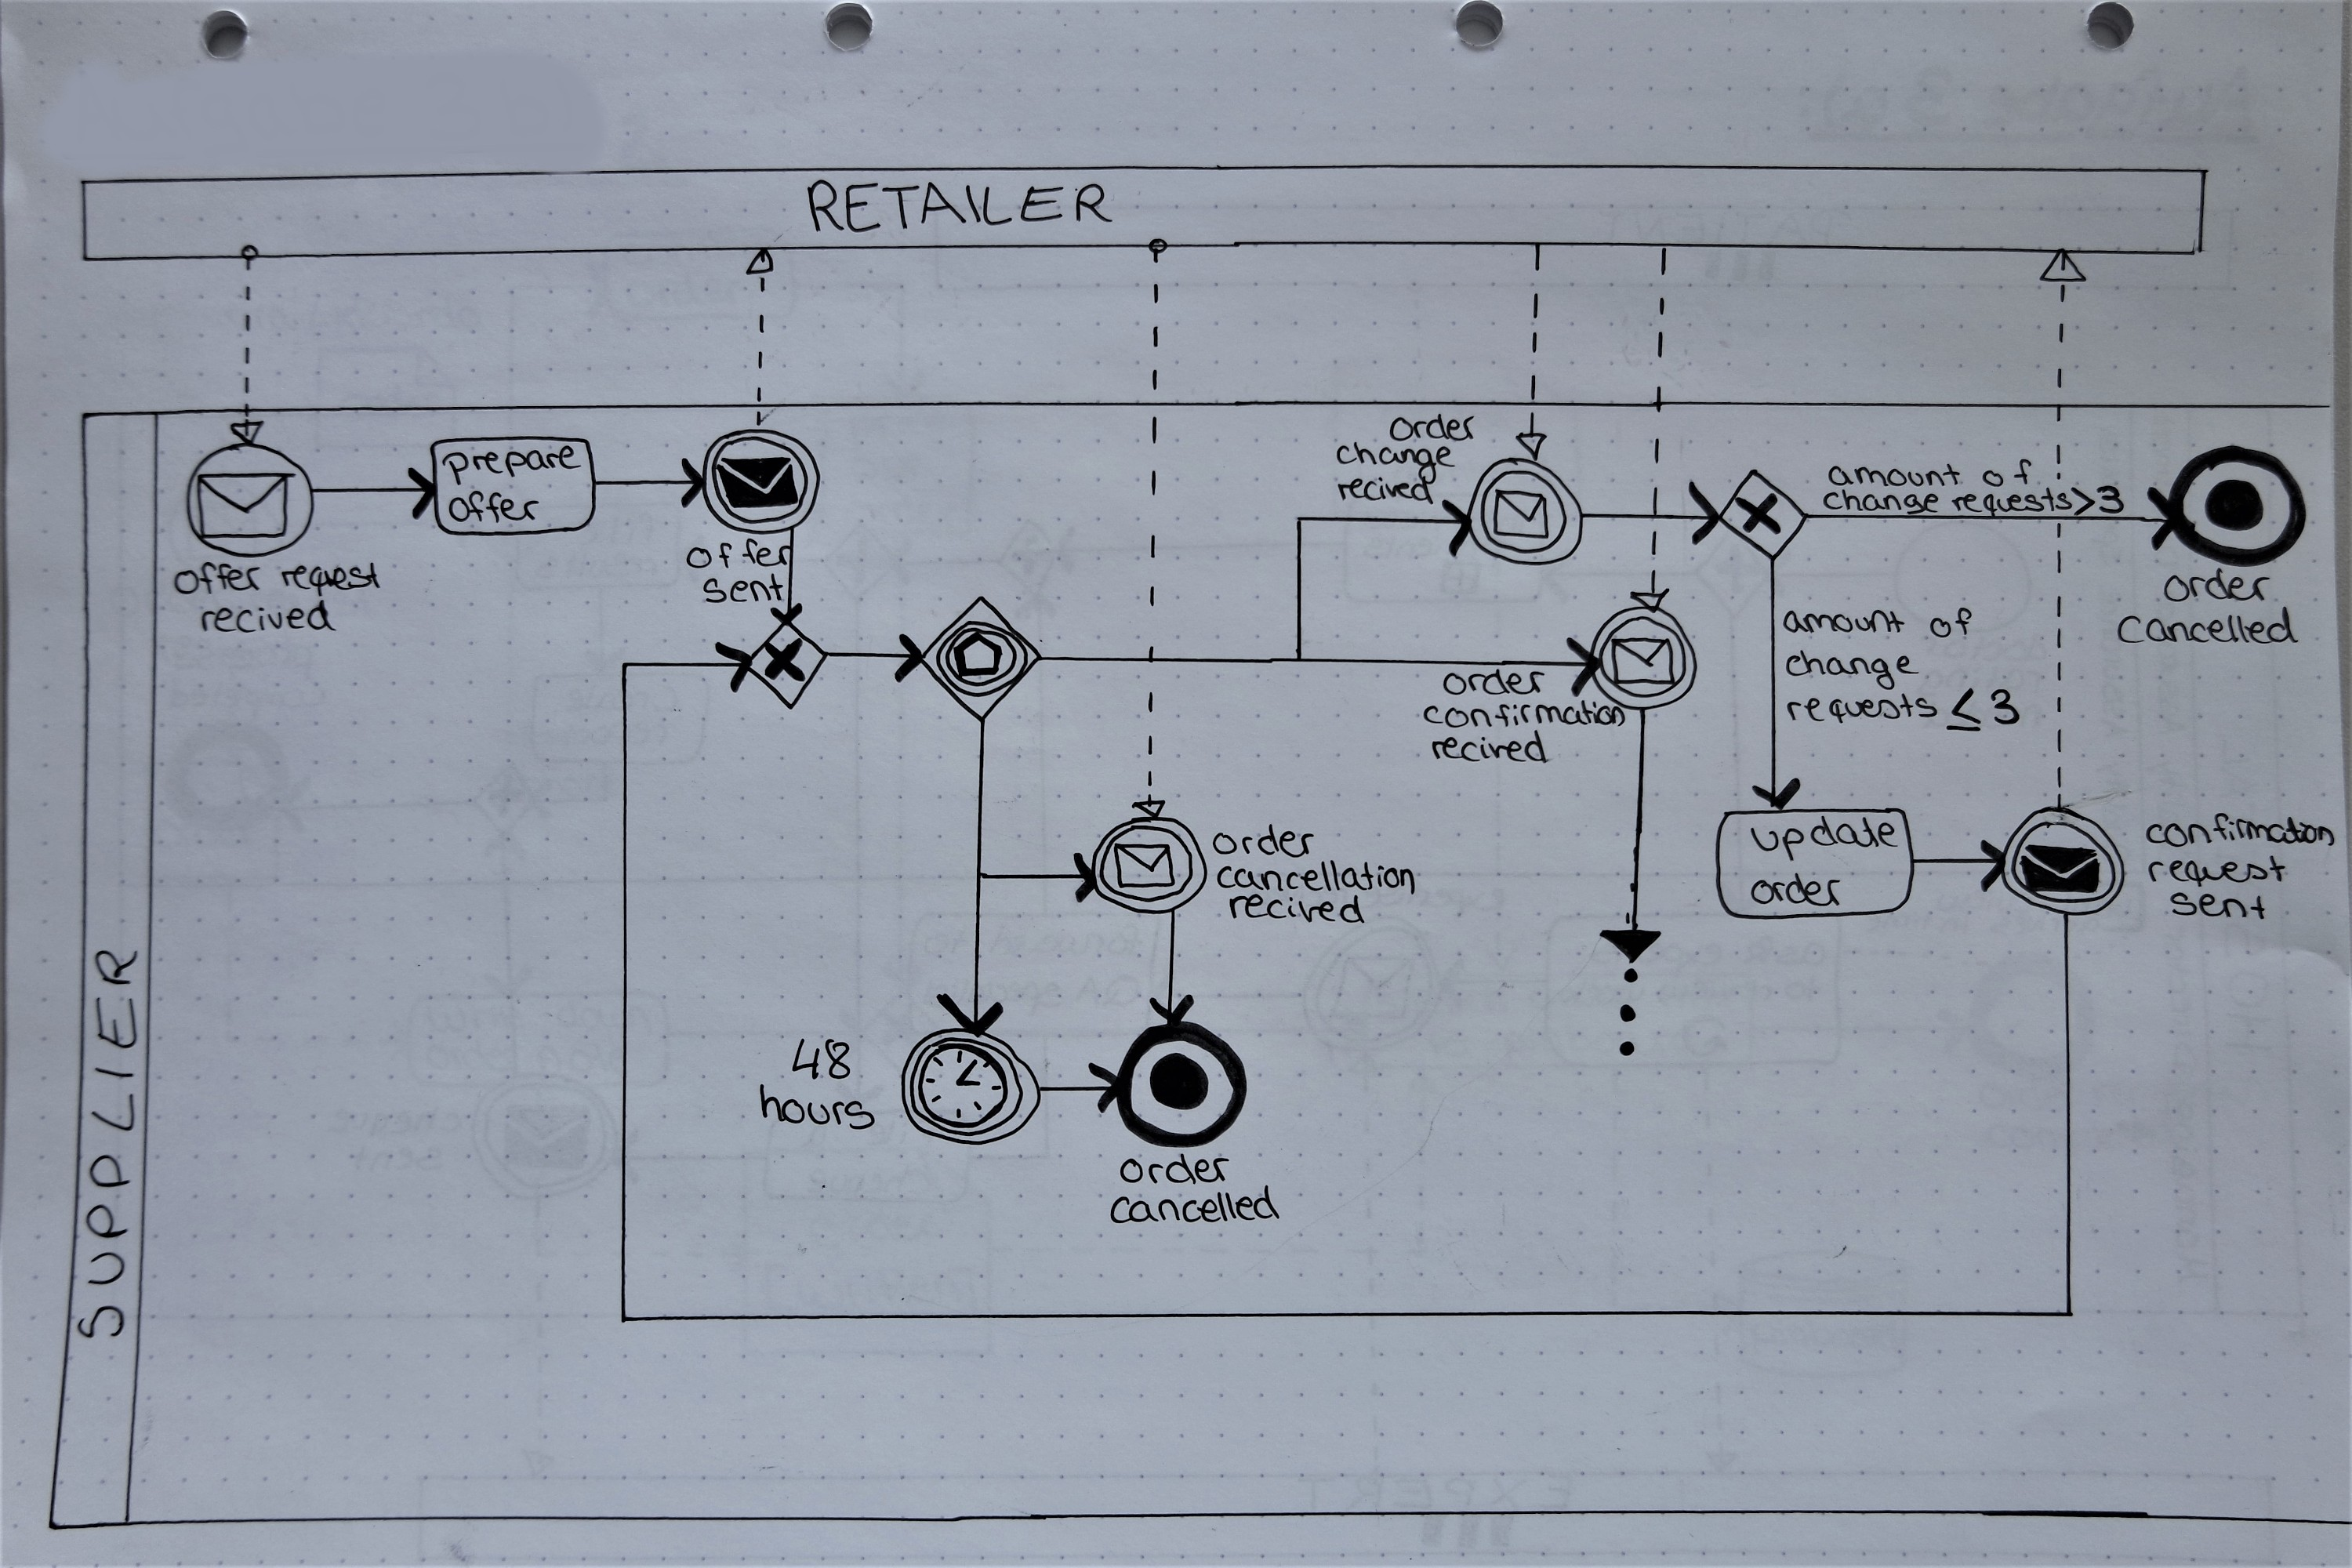48: (786, 1029, 857, 1094)
<=3: (1946, 679, 2013, 732)
>3: (2067, 483, 2126, 520)
Offer: (173, 563, 269, 600)
RETAILER: (807, 175, 1116, 236)
SUPPLIER: (84, 950, 135, 1344)
amount: (1781, 600, 1902, 639), (1825, 464, 1960, 487)
cancellation: (1209, 866, 1416, 887)
cancelled: (2110, 612, 2299, 647), (1099, 1190, 1281, 1223)
change: (1783, 649, 1918, 679), (1818, 483, 1934, 516), (1347, 439, 1444, 471)
confirmation: (2142, 816, 2336, 852), (1419, 697, 1622, 732)
hours: (761, 1092, 875, 1130)
of: (1909, 611, 1997, 639), (1979, 451, 2039, 488)
offer: (675, 539, 805, 577), (446, 495, 543, 525)
order: (1747, 868, 1839, 912), (1213, 819, 1318, 857), (2163, 569, 2270, 605), (1116, 1151, 1228, 1185), (1445, 660, 1543, 693), (1388, 406, 1480, 439)
prepare: (453, 448, 577, 480)
recived: (1419, 728, 1554, 773), (198, 602, 338, 637), (1237, 891, 1356, 924), (1337, 478, 1431, 502)
request: (2142, 854, 2287, 887), (282, 562, 371, 595)
requests: (1776, 690, 1935, 726), (1950, 495, 2065, 514)
sent: (2173, 886, 2270, 931), (702, 572, 784, 611)
update: (1741, 819, 1916, 856)
